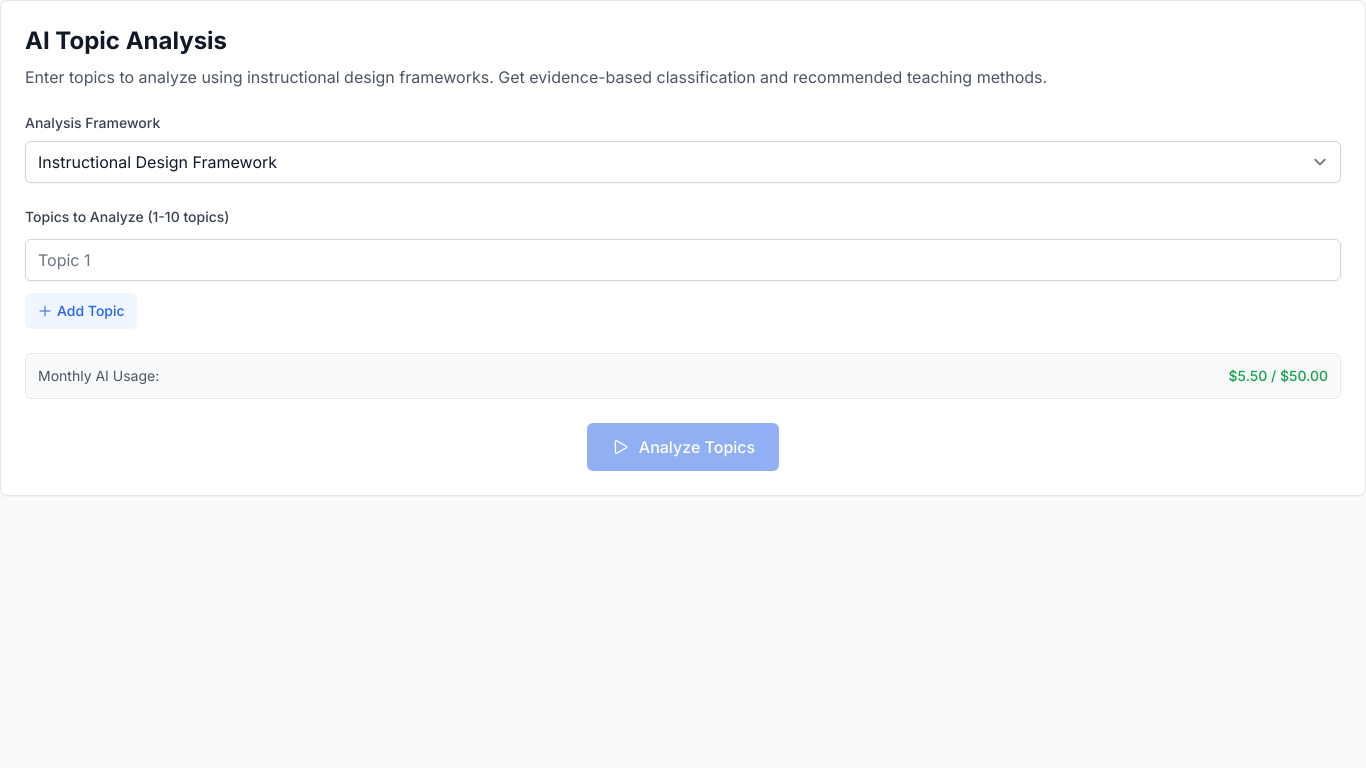
Scenario: TopicAnalyzer › Topic Input Management › should allow removing topics except the last one
The image size is (1366, 768).
Add a topic first
Step 1. Click the button "Add Topic" → (81, 311), box [25, 293, 137, 329]
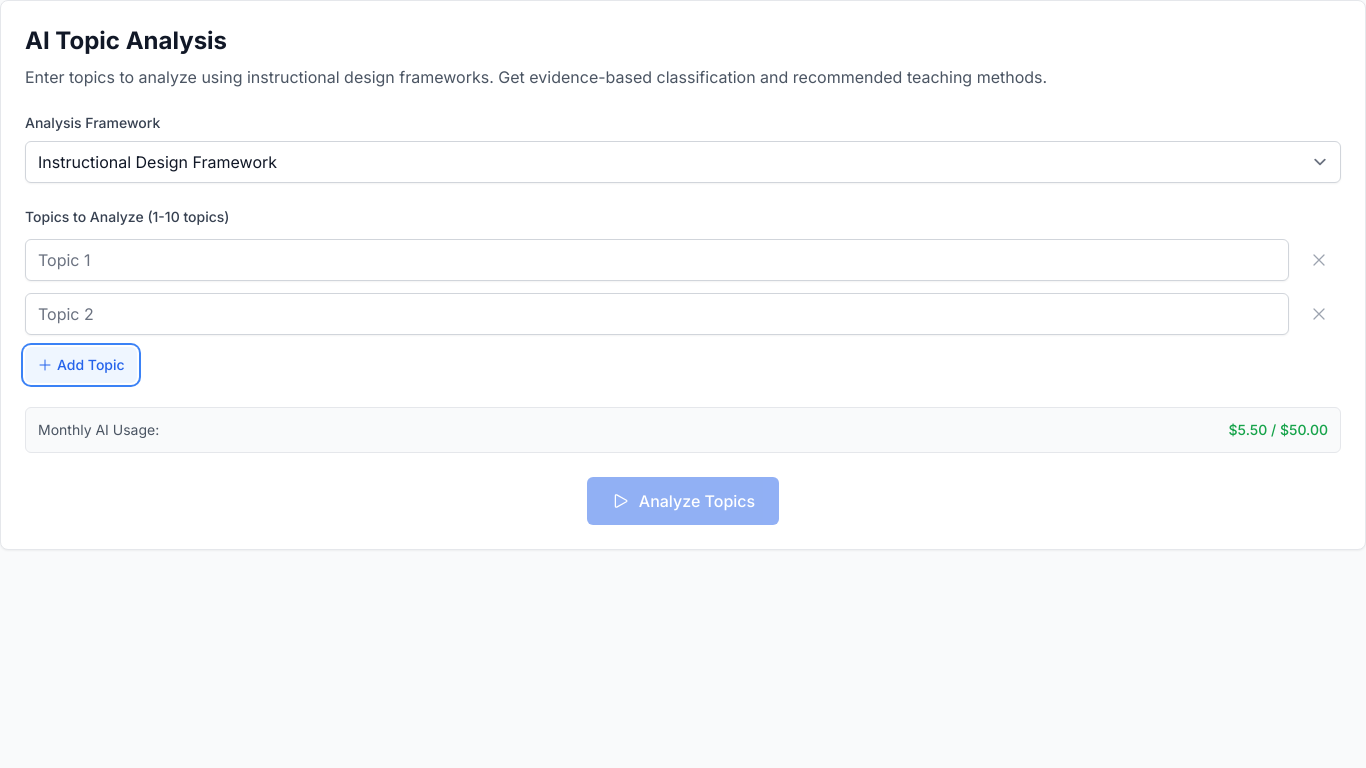
expect the number of fields with placeholder "Topic 1" is 2: met, box [25, 239, 1289, 281]; [25, 293, 1289, 335]
expect the number of buttons named "remove topic" is 2: met
Remove one topic
Step 2. Click the button named "remove topic" → (1319, 260), box [1297, 239, 1341, 281]
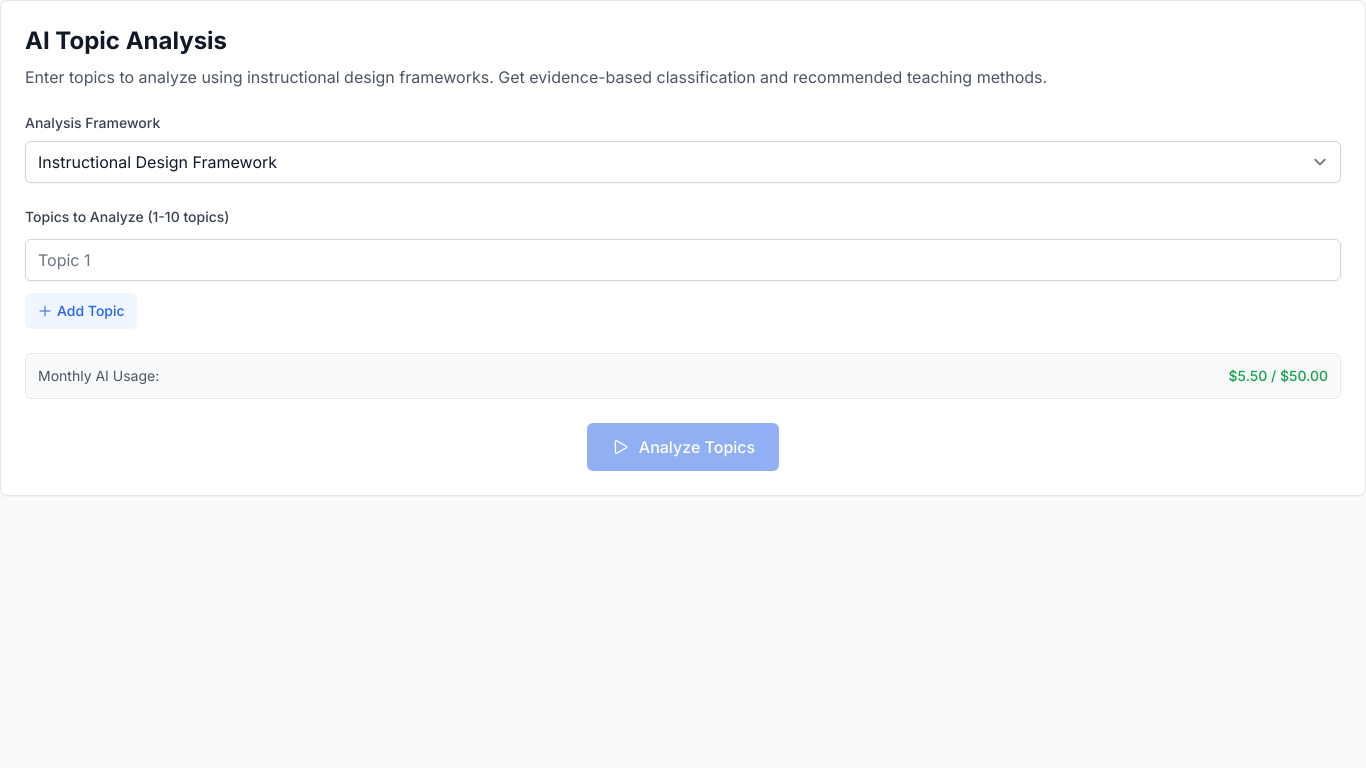
expect the number of fields with placeholder "Topic 1" is 1: met, box [25, 239, 1341, 281]
